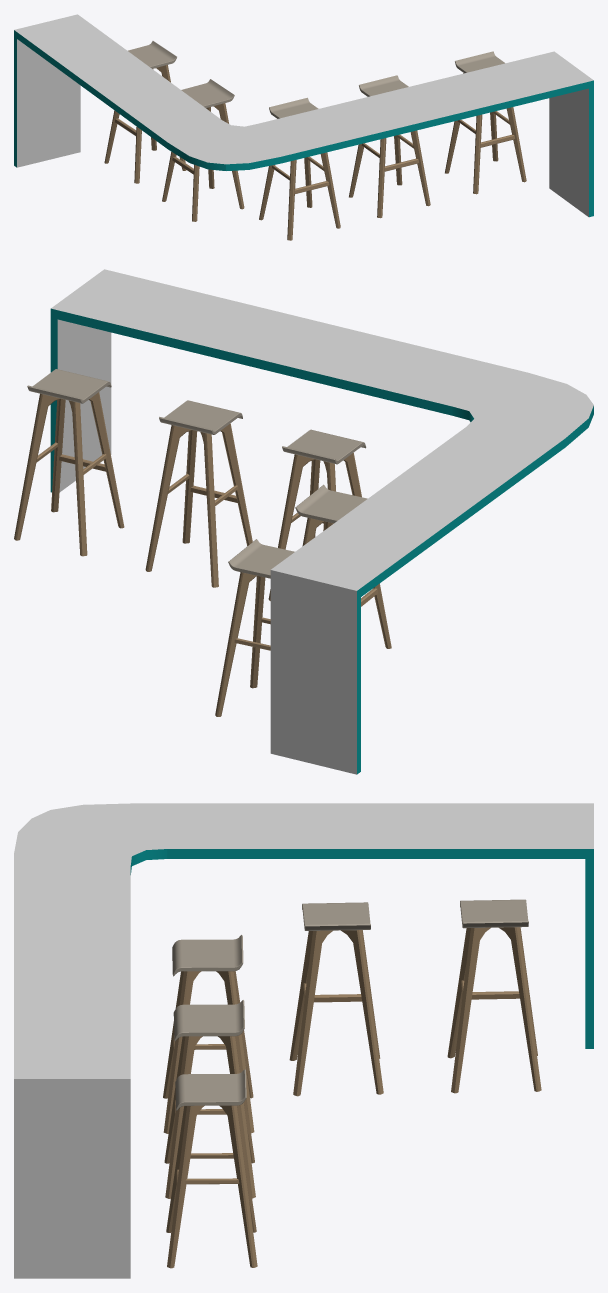
Rendered from corner_desk_set.fbx.
The picture shows the model from 3 angles, top to bottom: view 1: azimuth 30°, elevation 25°; view 2: azimuth 150°, elevation 25°; view 3: azimuth 270°, elevation 25°; orthographic projection. The views are drawn at different scales.
Visible parts, largest first — view 1: pCube31, chair8_pCube22, chair8_pCube24, chair8_pCube23, chair8_pCube25, chair8_pCube26; view 2: pCube31, chair8_pCube22, chair8_pCube23, chair8_pCube26, chair8_pCube24, chair8_pCube25; view 3: pCube31, chair8_pCube22, chair8_pCube26, chair8_pCube25, chair8_pCube23, chair8_pCube24.
Boxes of the visible parts, x1,y1,x2,y2 form: pCube31: (14,14,593,217); chair8_pCube22: (445,51,526,194); chair8_pCube24: (259,97,340,240); chair8_pCube23: (349,75,430,218); chair8_pCube25: (162,79,244,221); chair8_pCube26: (104,41,186,183); pCube31: (50,269,593,774); chair8_pCube22: (14,369,124,556); chair8_pCube23: (145,400,252,587); chair8_pCube26: (215,539,294,716); chair8_pCube24: (268,429,366,600); chair8_pCube25: (295,484,391,648); pCube31: (14,803,593,1278); chair8_pCube22: (166,1069,257,1268); chair8_pCube26: (447,899,541,1093); chair8_pCube25: (289,902,383,1096); chair8_pCube23: (164,1000,255,1198); chair8_pCube24: (163,935,254,1133).
Bounding box in the file's own units: 4.56 × 1.54 × 4.05.
